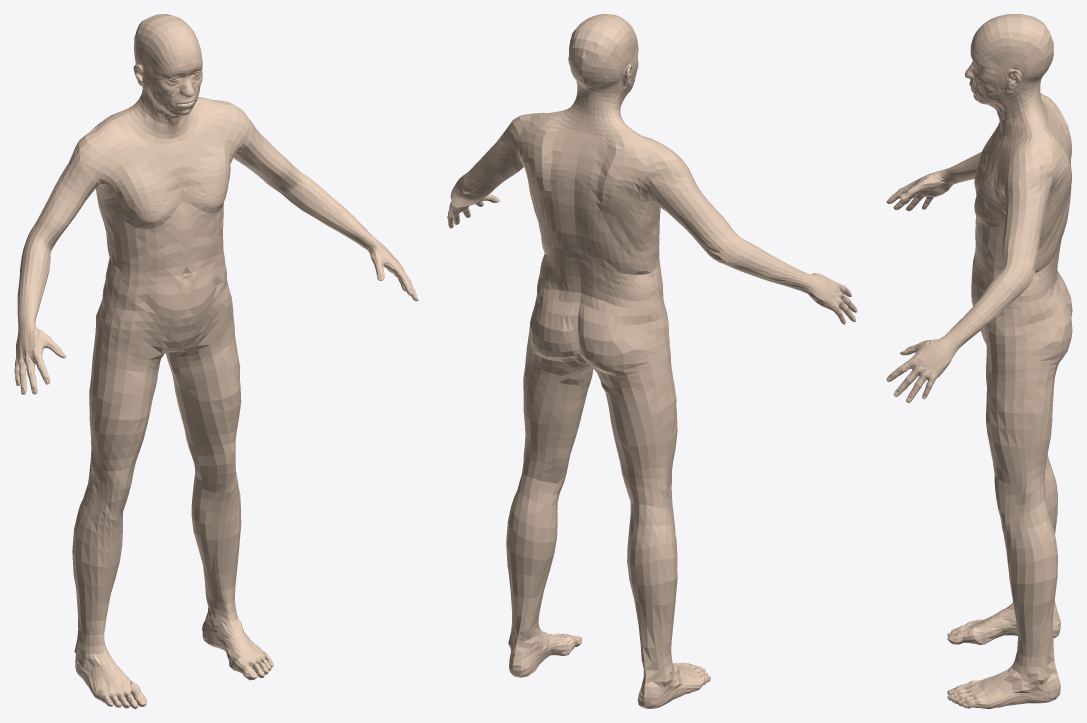
File: male-older-average-medium.glb
3 renders of one model, left to right at view 1: azimuth 30°, elevation 25°; view 2: azimuth 150°, elevation 25°; view 3: azimuth 270°, elevation 25°, orthographic.
Visible parts, largest first — view 1: world; view 2: world; view 3: world.
Boxes of the visible parts, <box> form: world: <box>14,14,418,708</box>; world: <box>447,14,857,708</box>; world: <box>886,14,1072,708</box>.
Size of the model in its own units: 1.22 by 1.93 by 0.4981.
